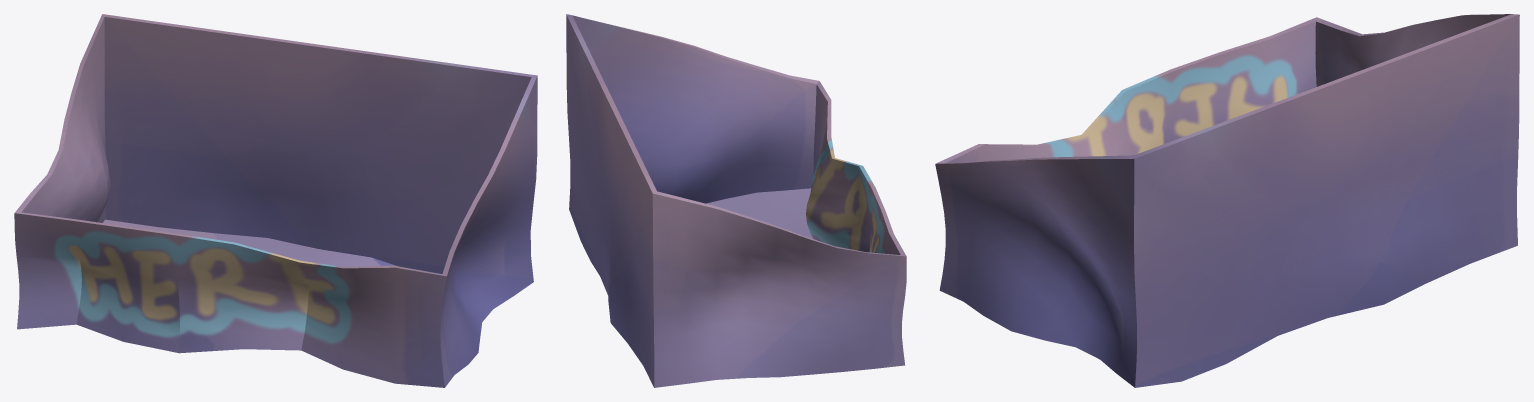
File: frame-bottom.fbx
The picture shows the model from 3 angles, left to right: view 1: azimuth 30°, elevation 25°; view 2: azimuth 150°, elevation 25°; view 3: azimuth 270°, elevation 25°; orthographic projection. The views are drawn at different scales.
Parts seen in each view (by area): view 1: frame-bottom; view 2: frame-bottom; view 3: frame-bottom.
Part boxes in pixels (<box>): frame-bottom: <box>14,14,537,387</box>; frame-bottom: <box>566,14,906,387</box>; frame-bottom: <box>935,14,1519,387</box>.
Size of the model in its own units: 215 by 105 by 220.
